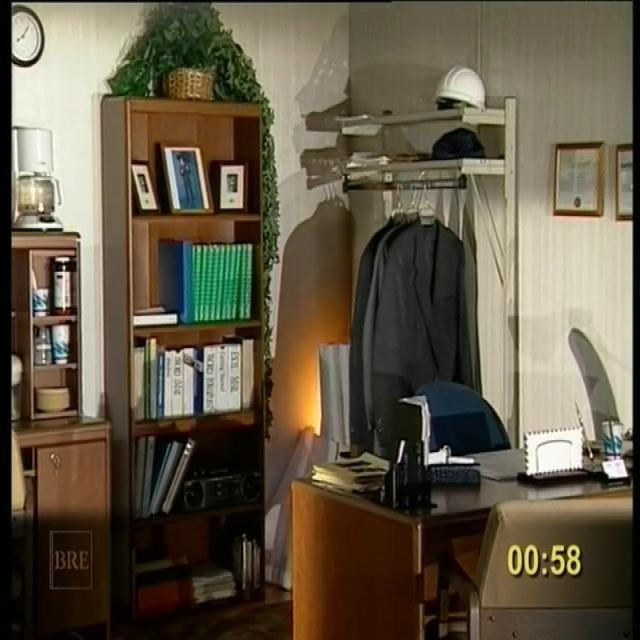Fire: (284, 345, 332, 437)
